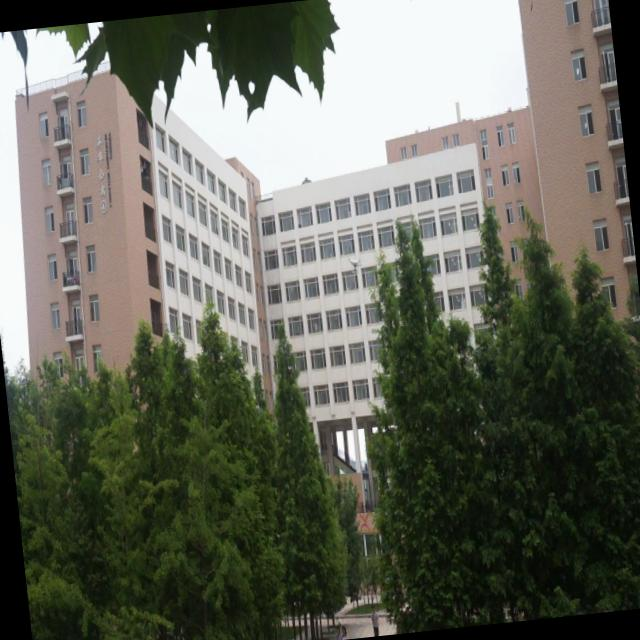drone: (348, 253, 364, 270)
